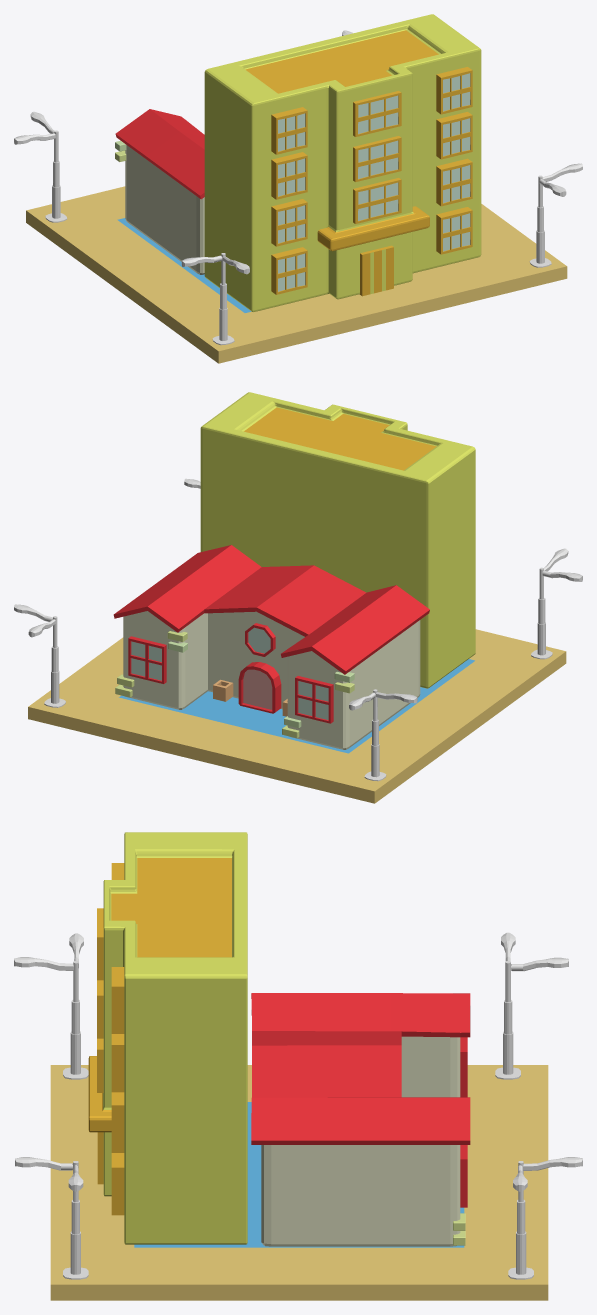
The model's file is ruas_quadra4.fbx.
The picture shows the model from 3 angles, top to bottom: view 1: azimuth 30°, elevation 25°; view 2: azimuth 150°, elevation 25°; view 3: azimuth 270°, elevation 25°; orthographic projection. The views are drawn at different scales.
Parts seen in each view (by area): view 1: Cube.053, Plane.004, Cube.064, Cube.042, Cube.040, Cube.056, Cube.036, Cube.038, Cube.037; view 2: Cube.053, Plane.004, Cube.040, Cube.042, Cube.052, Cube.043, Cube.041, Cube.037, Cube.039, Cube.036, Cylinder.002; view 3: Cube.053, Plane.004, Cube.040, Cube.042, Cube.064, Cube.036, Cube.037, Cube.039, Cube.038.
Boxes of the visible parts, x1,y1,x2,y2 form: Cube.053: [204, 14, 481, 311]; Plane.004: [26, 186, 567, 363]; Cube.064: [271, 67, 472, 294]; Cube.042: [125, 145, 204, 274]; Cube.040: [115, 109, 204, 199]; Cube.056: [359, 245, 393, 296]; Cube.036: [14, 111, 67, 222]; Cube.038: [529, 163, 582, 267]; Cube.037: [181, 253, 249, 345]; Cube.053: [200, 392, 475, 688]; Plane.004: [28, 629, 566, 803]; Cube.040: [113, 545, 429, 674]; Cube.042: [123, 611, 420, 749]; Cube.052: [238, 662, 281, 713]; Cube.043: [295, 676, 333, 723]; Cube.041: [128, 636, 166, 683]; Cube.037: [531, 548, 582, 659]; Cube.039: [14, 604, 65, 707]; Cube.036: [349, 689, 417, 781]; Cylinder.002: [245, 623, 275, 656]; Cube.053: [88, 832, 247, 1244]; Plane.004: [50, 1065, 548, 1300]; Cube.040: [251, 993, 470, 1144]; Cube.042: [261, 1036, 460, 1246]; Cube.064: [97, 863, 124, 1215]; Cube.036: [495, 932, 568, 1079]; Cube.037: [14, 933, 88, 1079]; Cube.039: [508, 1157, 582, 1279]; Cube.038: [15, 1157, 88, 1279].
Size of the model in its own units: 793 by 423 by 755.
